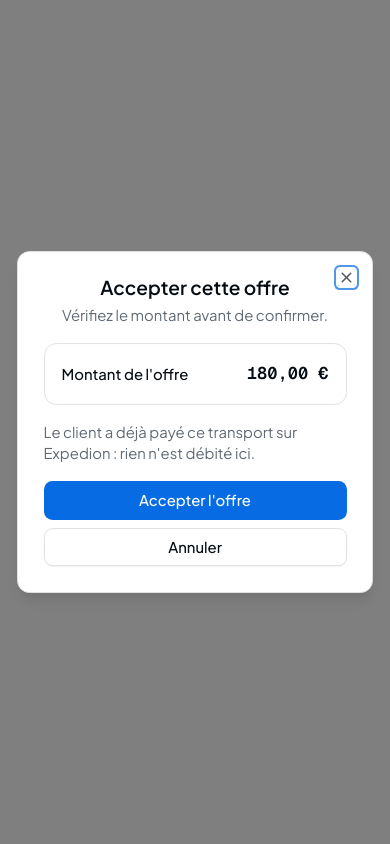
Test: AcceptPaymentDialog — a job nothing is paid for here › never mentions a card when a refusal involved none
The width and height of the screenshot is (390, 844).
What coordinates should you click on to do the following:
click the button "Accepter l'offre"
I would click on:
 (195, 501)
Its box is [44, 481, 346, 520].
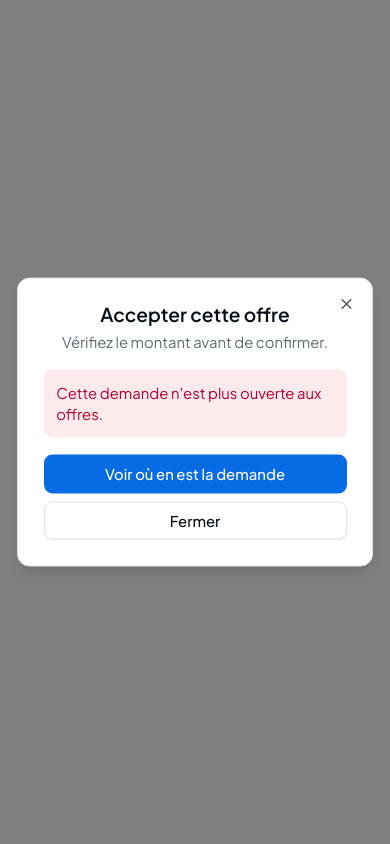
Expected: the text "Cette demande n'est plus ouverte aux offres." is shown, [44, 370, 346, 438]
Expected: the button "Voir où en est la demande" is shown, [44, 455, 346, 493]
